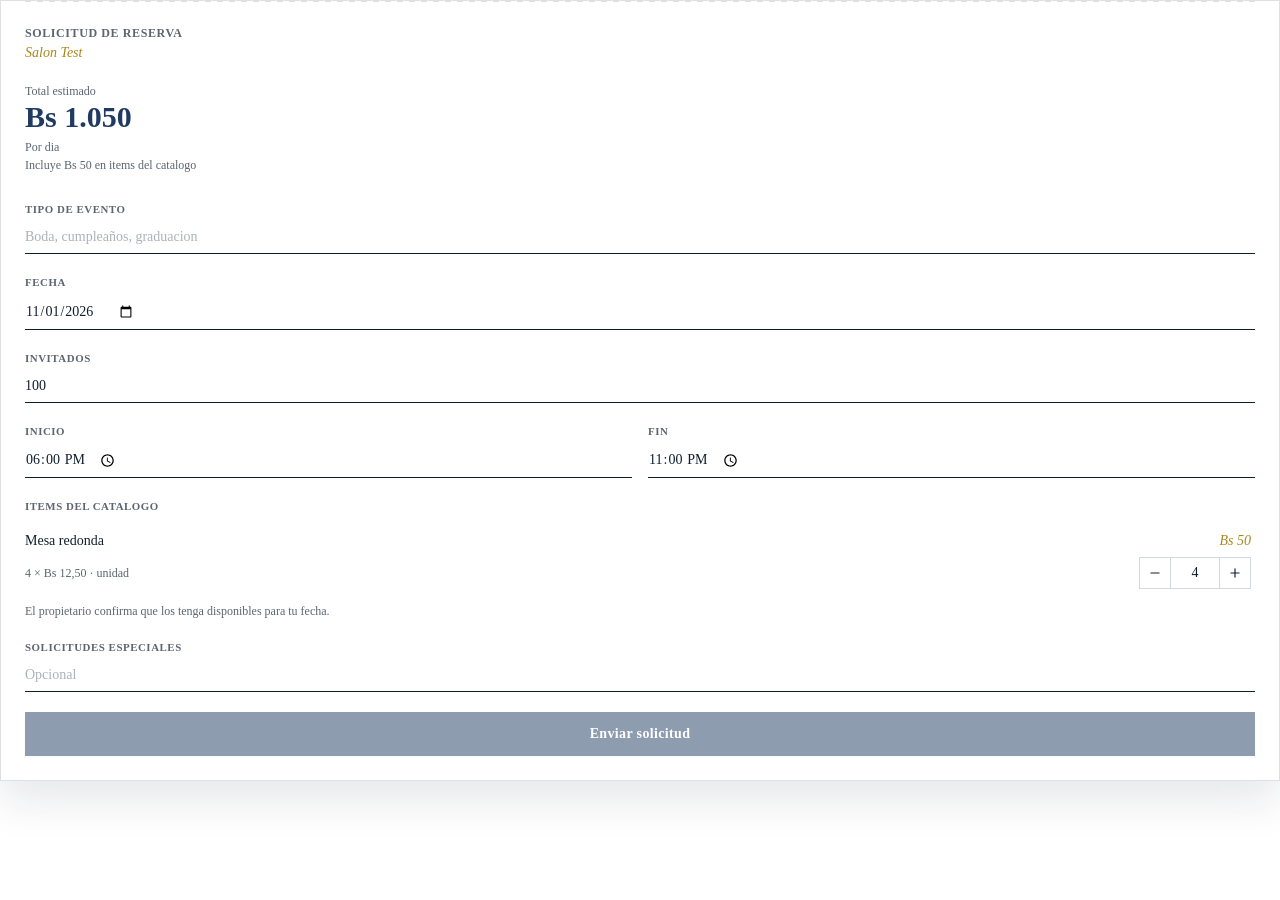
Test case: BookingForm con items del catalogo › avisa que el dueño debe aprobar aunque el local tenga reserva inmediata
In the field labelled "Tipo de evento": {"x": 640, "y": 239} [25, 223, 1255, 254], type "Boda"
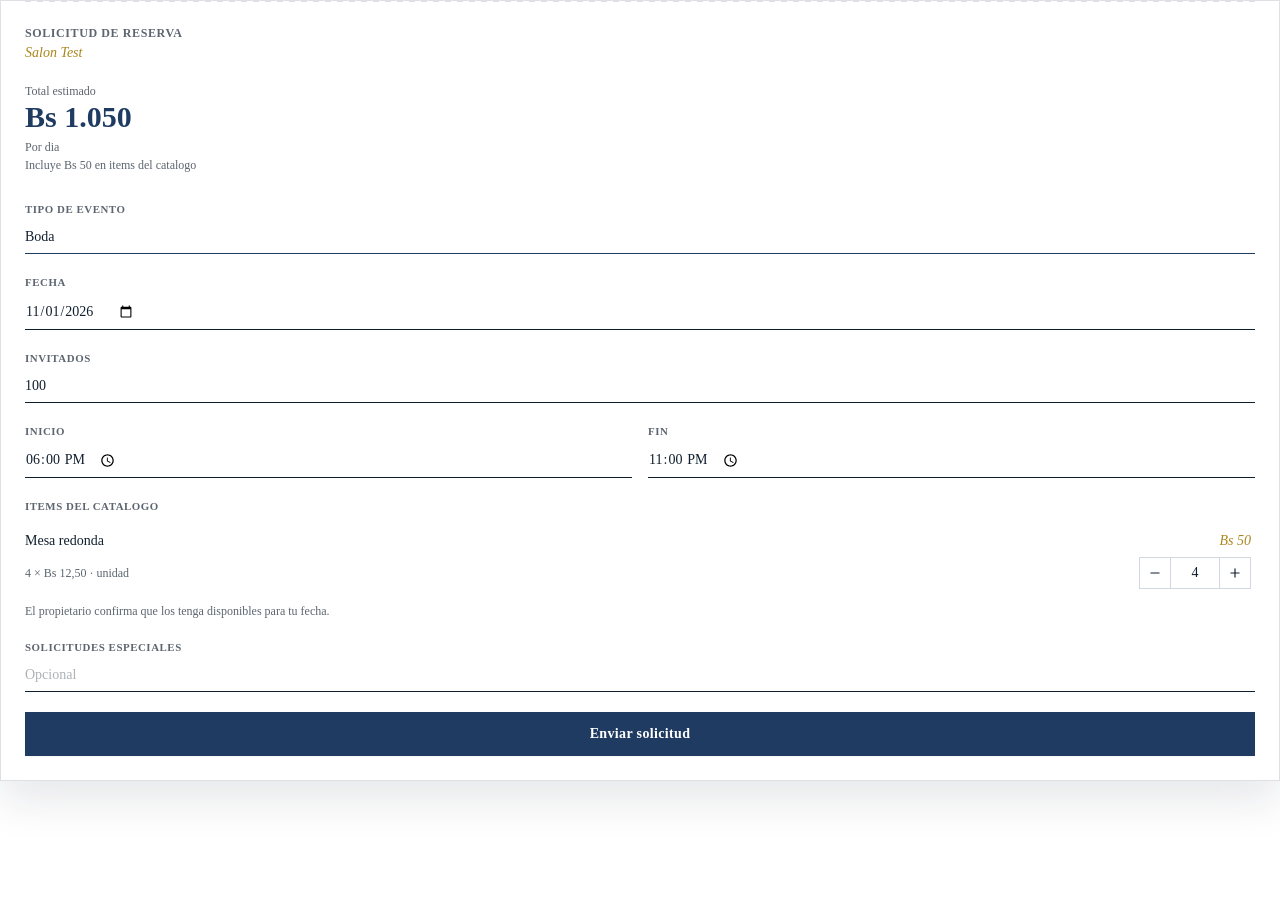
Click the button "Enviar solicitud": {"x": 640, "y": 734} [25, 712, 1255, 756]
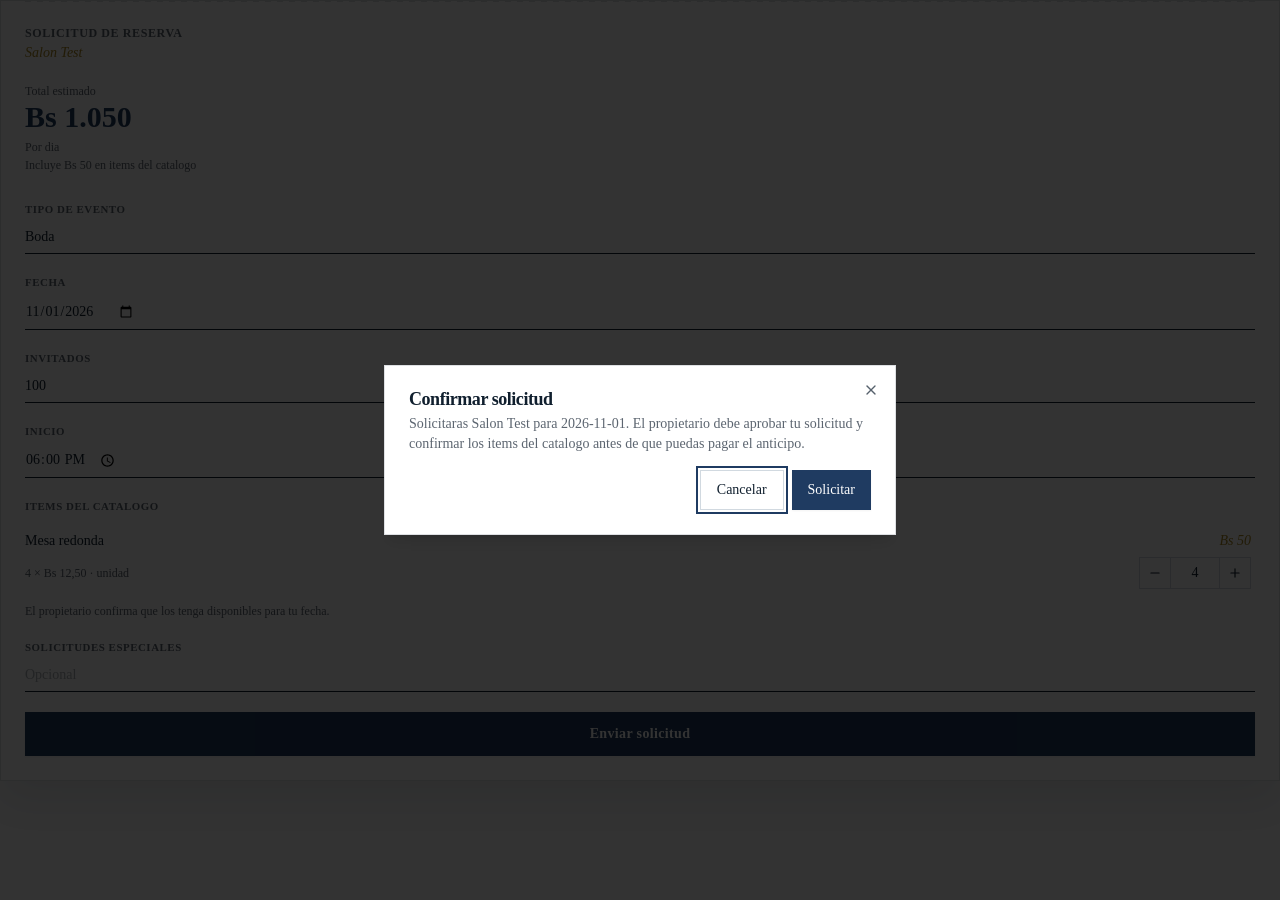
Result: the text "debe aprobar tu solicitud y confirmar los items del catalogo" is shown at [409, 416, 863, 451]
